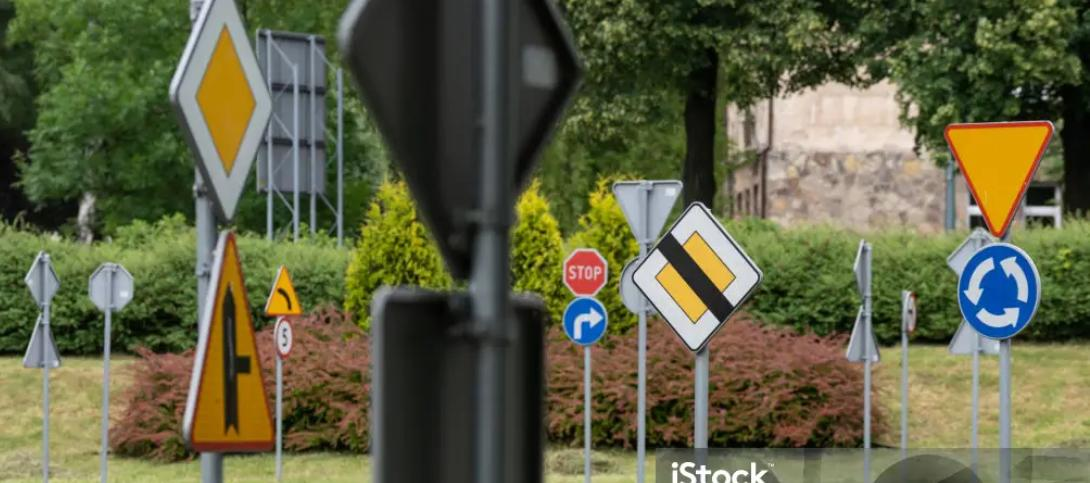road_sign: (174, 0, 275, 220), (632, 201, 760, 352), (188, 233, 277, 447), (944, 122, 1053, 236), (958, 242, 1040, 340), (563, 297, 607, 345), (564, 249, 606, 296), (267, 267, 302, 314), (275, 318, 294, 358)
